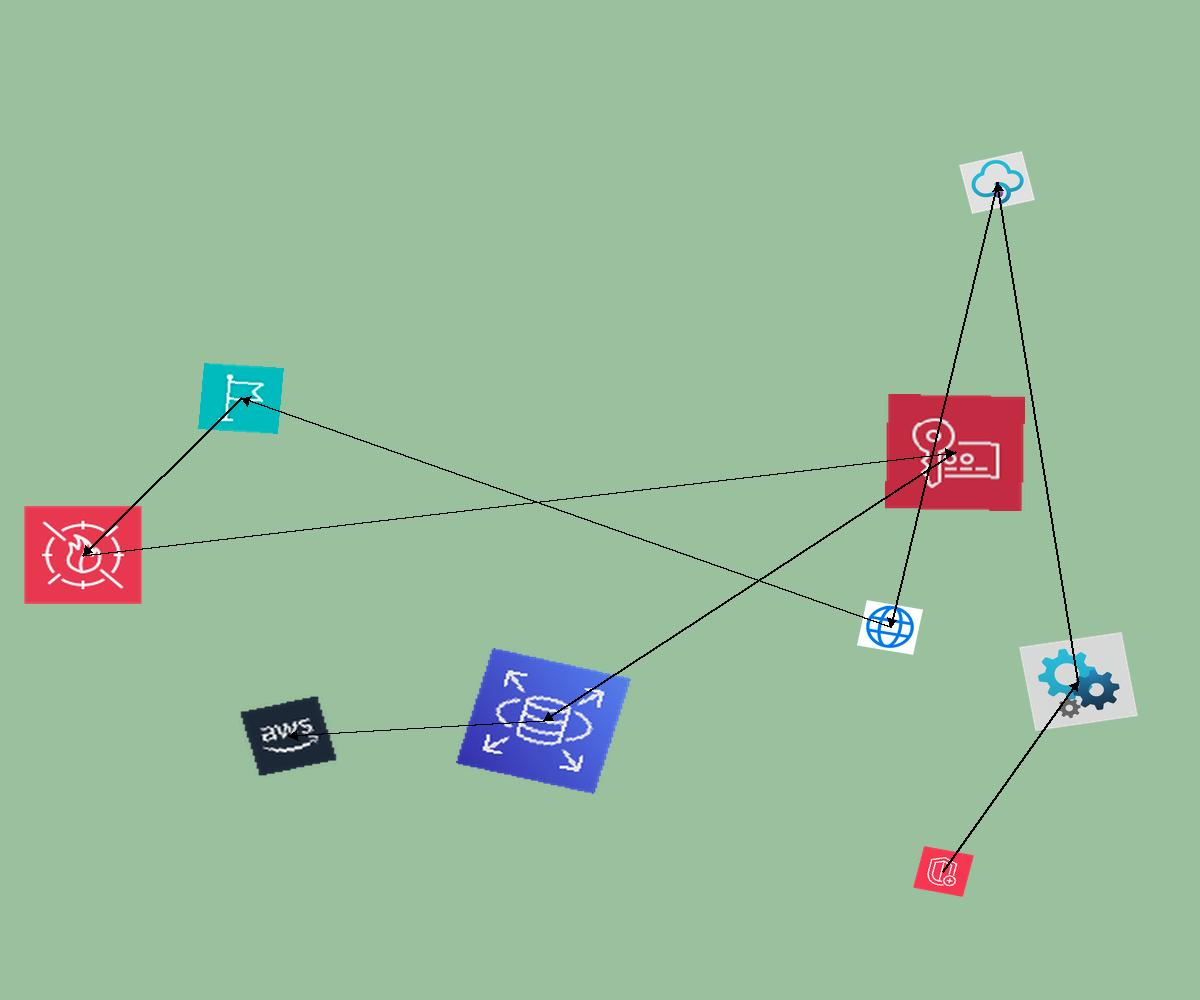AWS-Cloud-logo: (239, 695, 338, 777)
AWS-Key-Management-Service: (885, 394, 1025, 511)
AWS-RDS: (456, 648, 631, 794)
AWS-Region: (198, 363, 284, 434)
AWS-Shield: (913, 846, 974, 897)
AWS-WAF: (23, 505, 143, 605)
Azure_api: (1019, 632, 1138, 731)
Azure_api_gateway: (959, 151, 1035, 214)
Azure_http: (857, 600, 923, 655)
